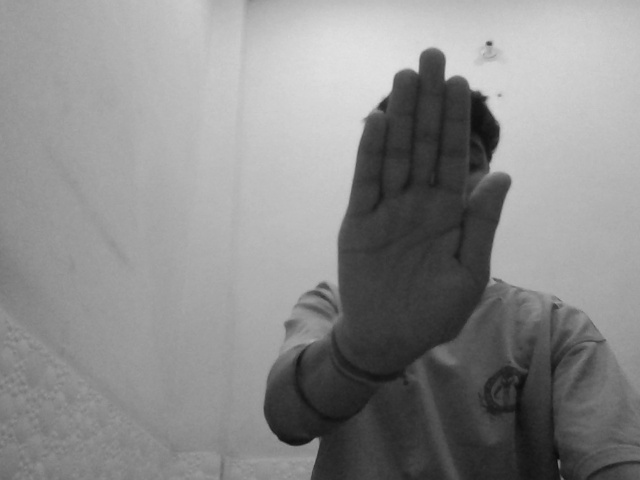Stop: (331, 37, 517, 351)
